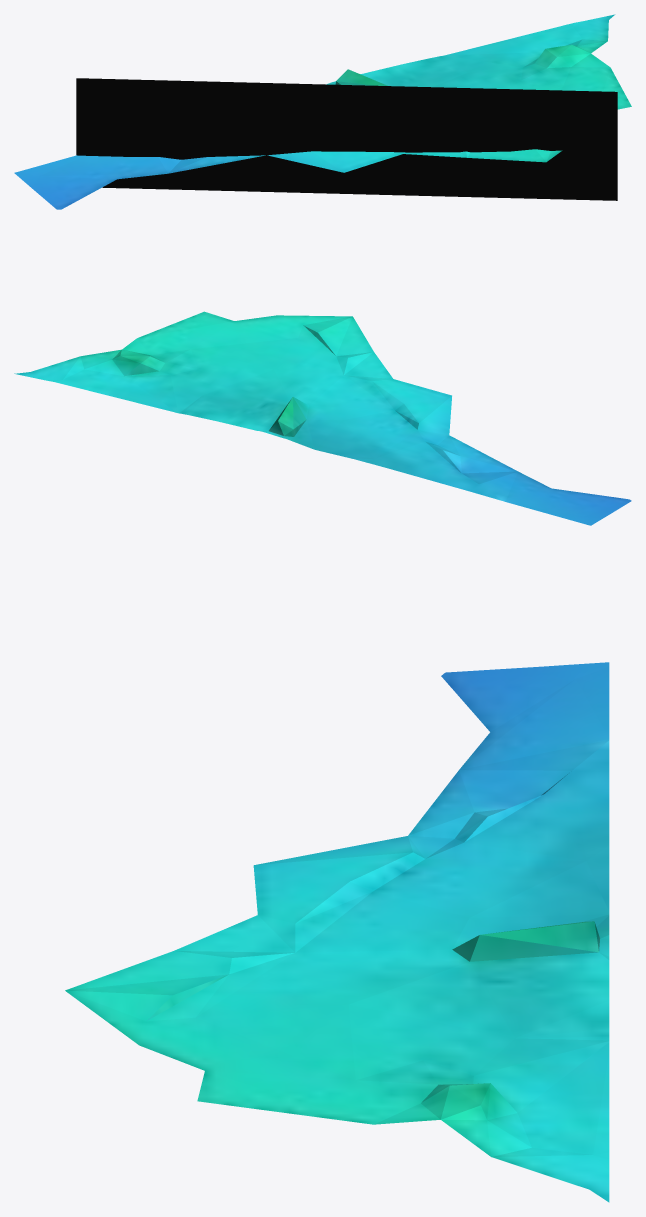
3 renders of one model, top to bottom at view 1: azimuth 30°, elevation 25°; view 2: azimuth 150°, elevation 25°; view 3: azimuth 270°, elevation 25°, orthographic. The views are drawn at different scales.
Size of the model in its own units: 52 by 9 by 22.36.
Materials: 2 (2 with a texture image).
